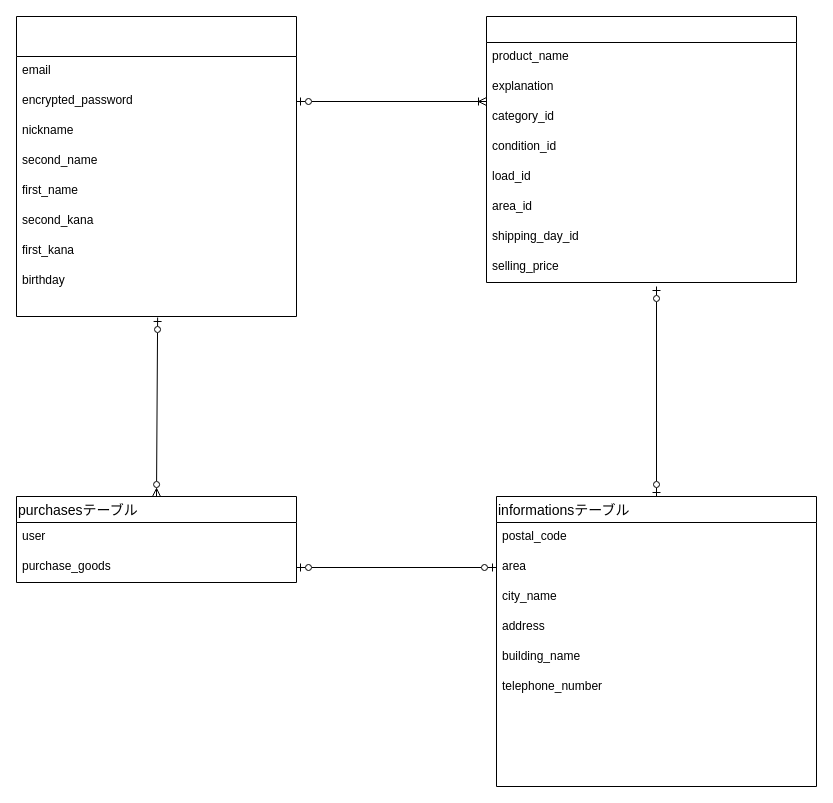
Image size: 833x803. Some labels were removed from this diagram. The shapes that lost their labels are listed below. From the top down, each one's box as (x1, y1, x2, y2) in pixels, then its label:
(16, 16, 296, 316): users テーブル
(486, 16, 796, 282): items テーブル
